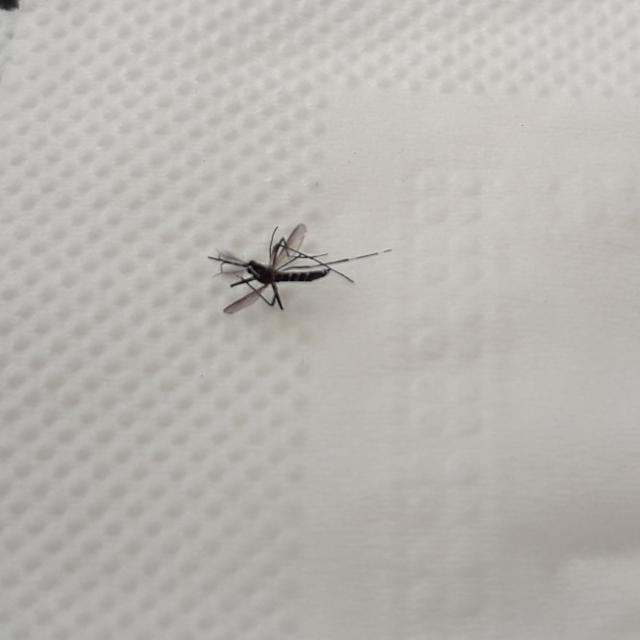albopictus: (208, 206, 386, 315)
